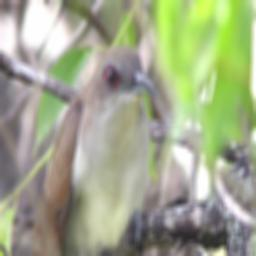Cuckoo: (28, 44, 157, 256)
